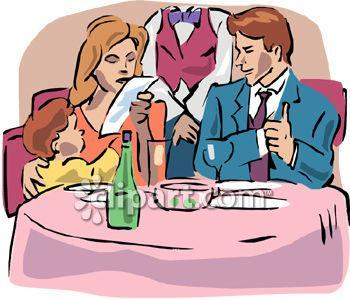bottle: (108, 130, 141, 229)
diningtable: (9, 182, 350, 293)
person: (194, 7, 338, 187), (64, 14, 169, 186), (19, 99, 123, 202)
